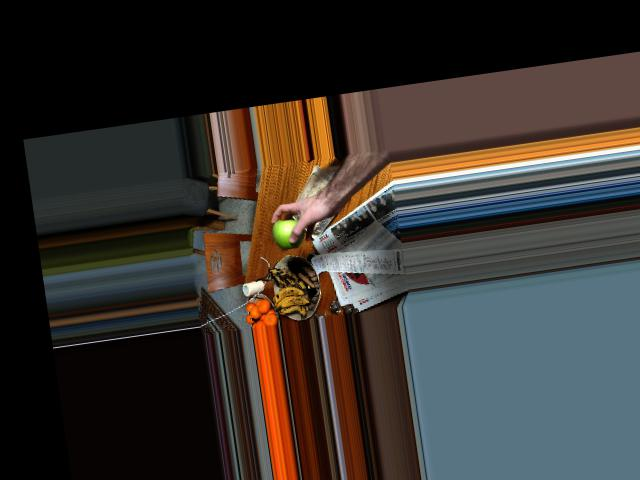apple: (271, 217, 309, 251)
